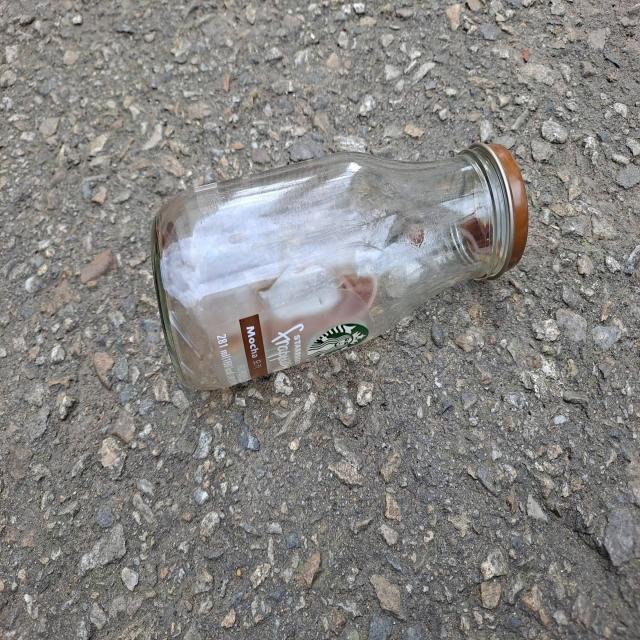glass: (152, 143, 529, 390)
